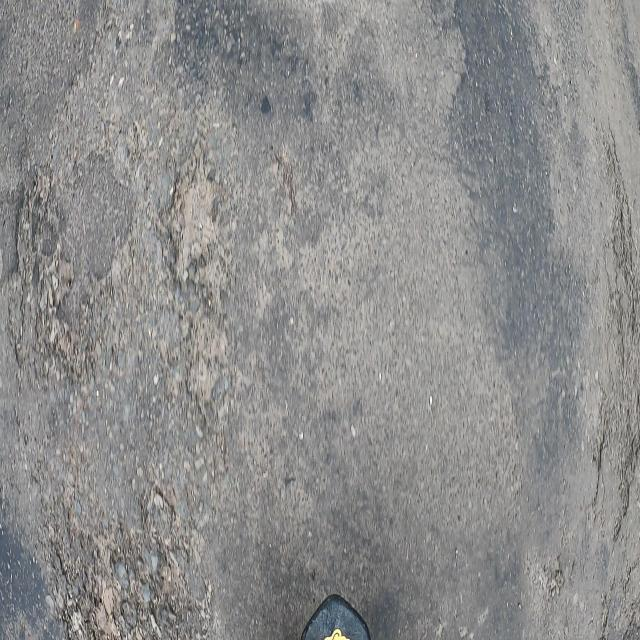Lubang: (165, 120, 235, 421), (9, 169, 95, 387)
